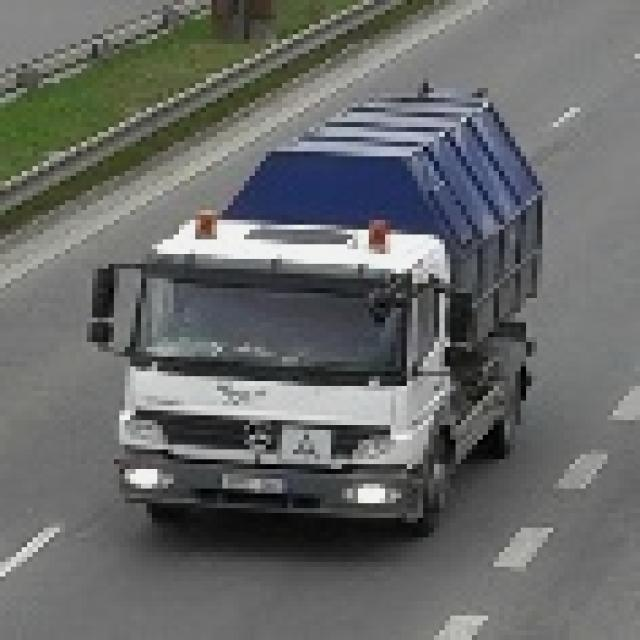truck: (83, 84, 544, 543)
